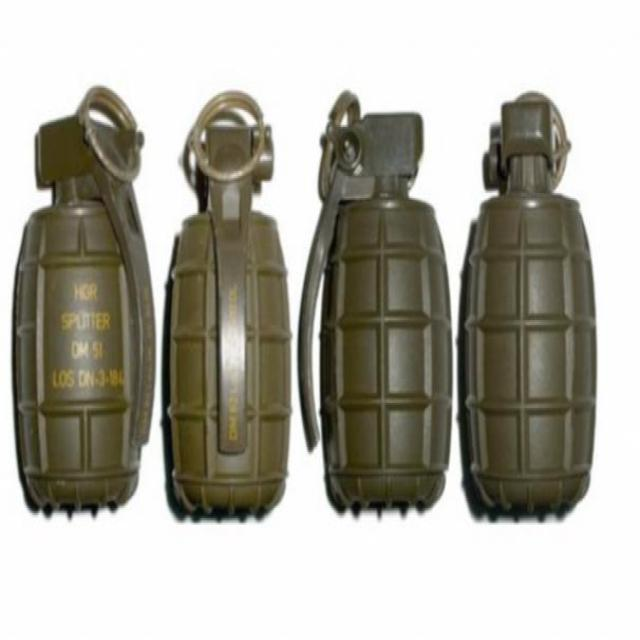grenade: (299, 97, 457, 526), (13, 86, 157, 524), (461, 94, 600, 528), (166, 92, 298, 531)
